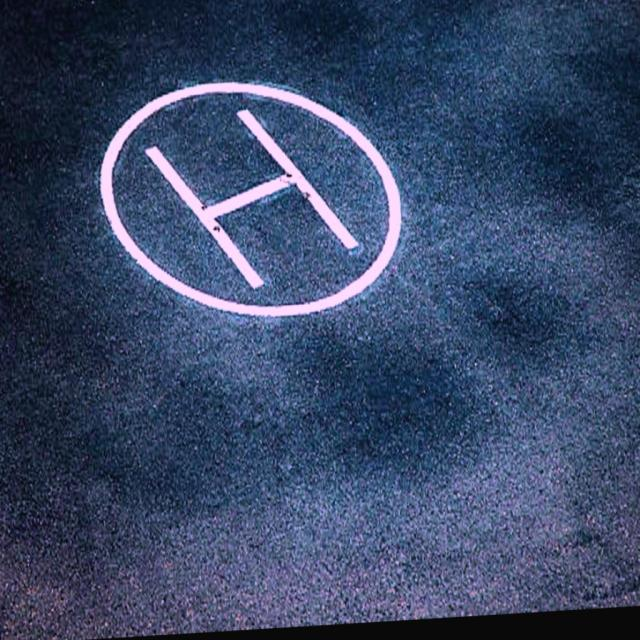helipad: (94, 74, 406, 321)
